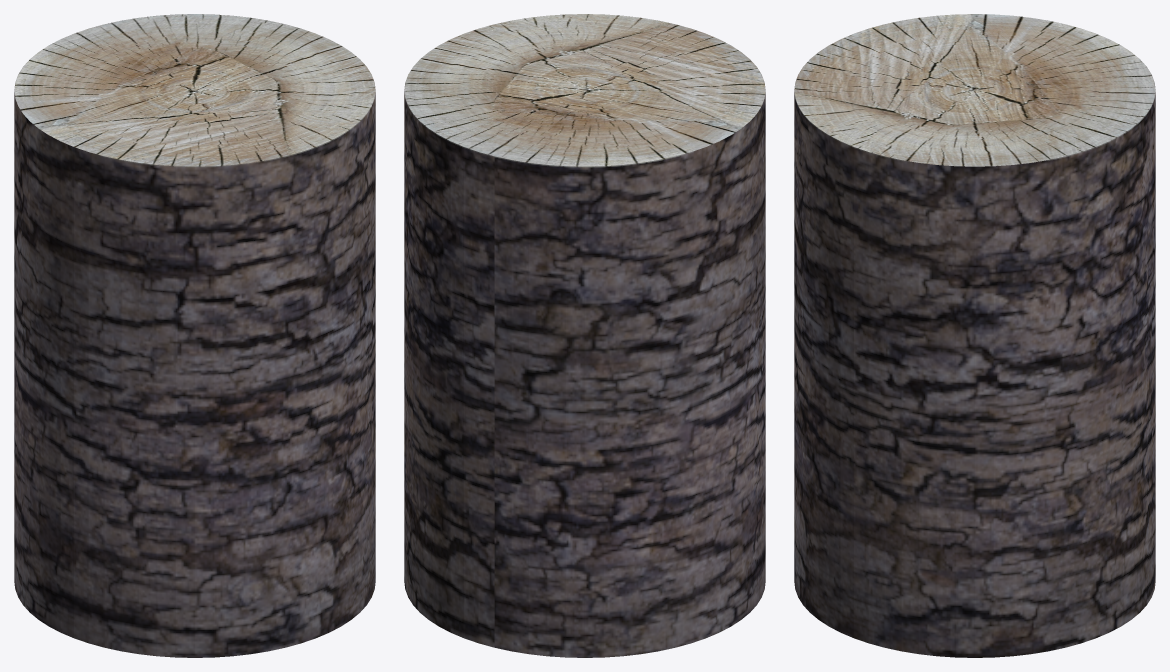
Rendered from Log.fbx.
3 views of the same model, side by side, from view 1: azimuth 30°, elevation 25°; view 2: azimuth 150°, elevation 25°; view 3: azimuth 270°, elevation 25° (orthographic).
Visible parts, largest first — view 1: Cylinder; view 2: Cylinder; view 3: Cylinder.
Boxes of the visible parts, <box> form: Cylinder: <box>14,14,375,657</box>; Cylinder: <box>404,14,765,657</box>; Cylinder: <box>794,14,1155,657</box>.
Bounding box in the file's own units: 40 × 60 × 40.
1 material, 1 textured.
